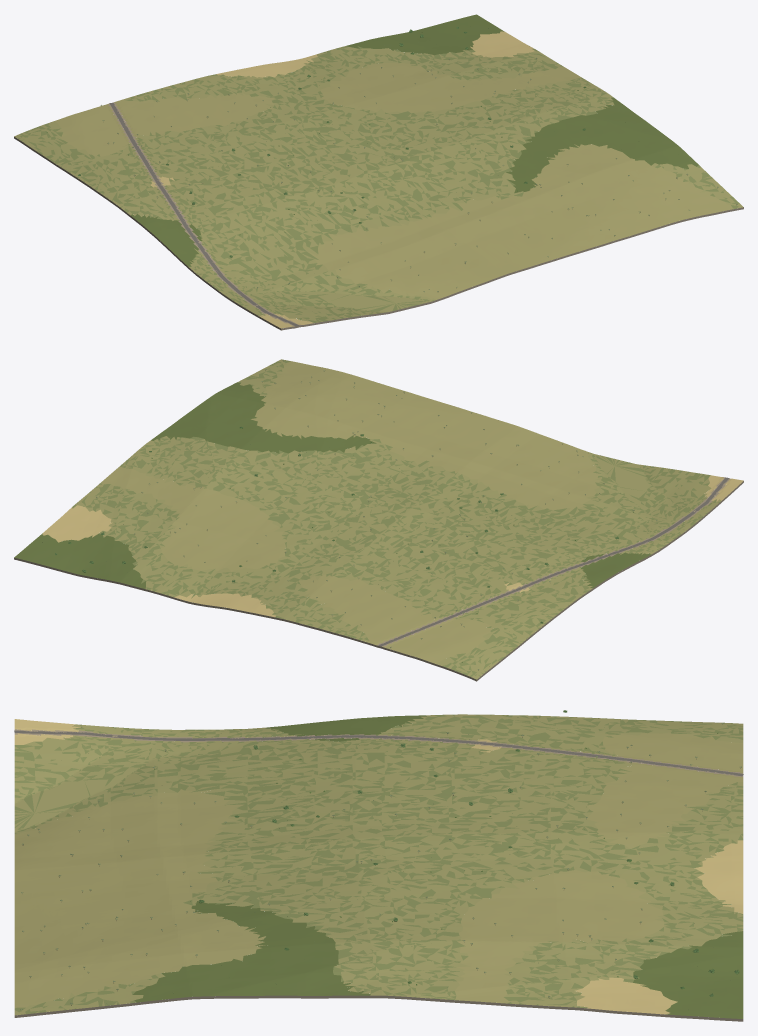
Rendered from parca_-3_-4-yakin.glb.
The picture shows the model from 3 angles, top to bottom: view 1: azimuth 30°, elevation 25°; view 2: azimuth 150°, elevation 25°; view 3: azimuth 270°, elevation 25°; orthographic projection. The views are drawn at different scales.
Parts seen in each view (by area): view 1: parca_-3_-4_arazi, parca_-3_-4_yollar, parca_-3_-4_bitkiler; view 2: parca_-3_-4_arazi, parca_-3_-4_yollar, parca_-3_-4_bitkiler; view 3: parca_-3_-4_arazi, parca_-3_-4_yollar, parca_-3_-4_bitkiler.
Part boxes in pixels (left/top/right/bottom): parca_-3_-4_arazi: left=14, top=14, right=743, bottom=330; parca_-3_-4_yollar: left=109, top=102, right=298, bottom=326; parca_-3_-4_bitkiler: left=27, top=26, right=737, bottom=305; parca_-3_-4_arazi: left=14, top=359, right=743, bottom=681; parca_-3_-4_yollar: left=378, top=477, right=729, bottom=646; parca_-3_-4_bitkiler: left=42, top=360, right=678, bottom=670; parca_-3_-4_arazi: left=14, top=714, right=743, bottom=1021; parca_-3_-4_yollar: left=14, top=730, right=743, bottom=776; parca_-3_-4_bitkiler: left=20, top=710, right=741, bottom=1010.
Size of the model in its own units: 1003 by 82.64 by 1002.
